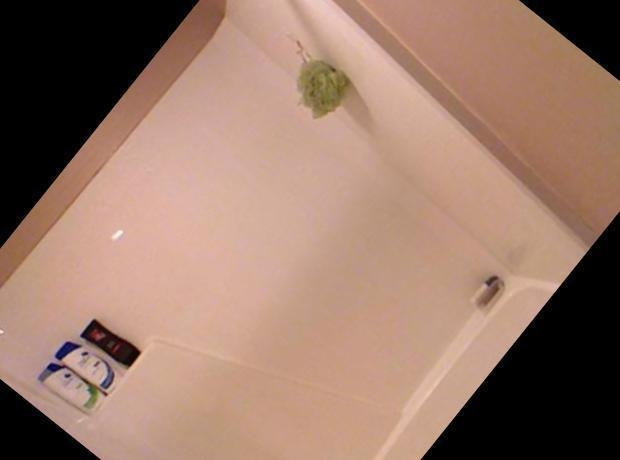Ducha: (0, 252, 359, 460)
